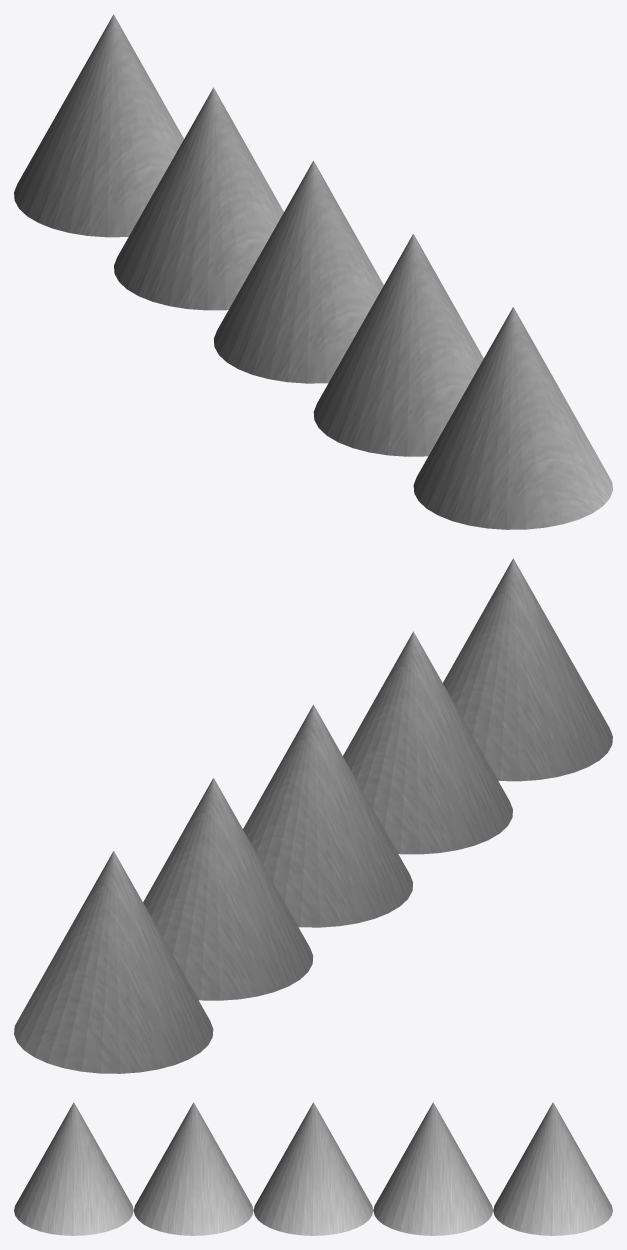
Rendered from pincho.glb.
The picture shows the model from 3 angles, top to bottom: view 1: azimuth 30°, elevation 25°; view 2: azimuth 150°, elevation 25°; view 3: azimuth 270°, elevation 25°; orthographic projection. The views are drawn at different scales.
Parts seen in each view (by area): view 1: Cone.004; view 2: Cone.004; view 3: Cone.004.
Boxes of the visible parts, bbox=[...] form: Cone.004: bbox=[14, 14, 612, 529]; Cone.004: bbox=[14, 558, 612, 1073]; Cone.004: bbox=[14, 1102, 612, 1235].
Size of the model in its own units: 0.2 by 0.2 by 1.
1 material, 1 textured.
